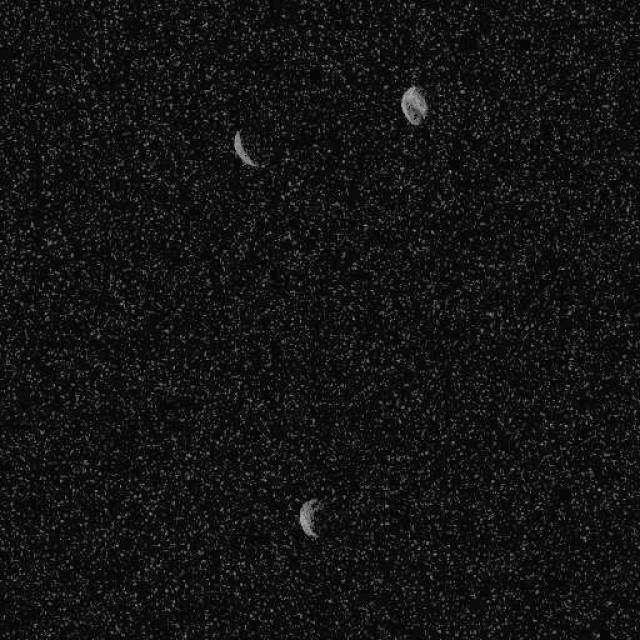D2: (399, 85, 429, 126), (231, 128, 261, 168), (298, 496, 324, 539)
